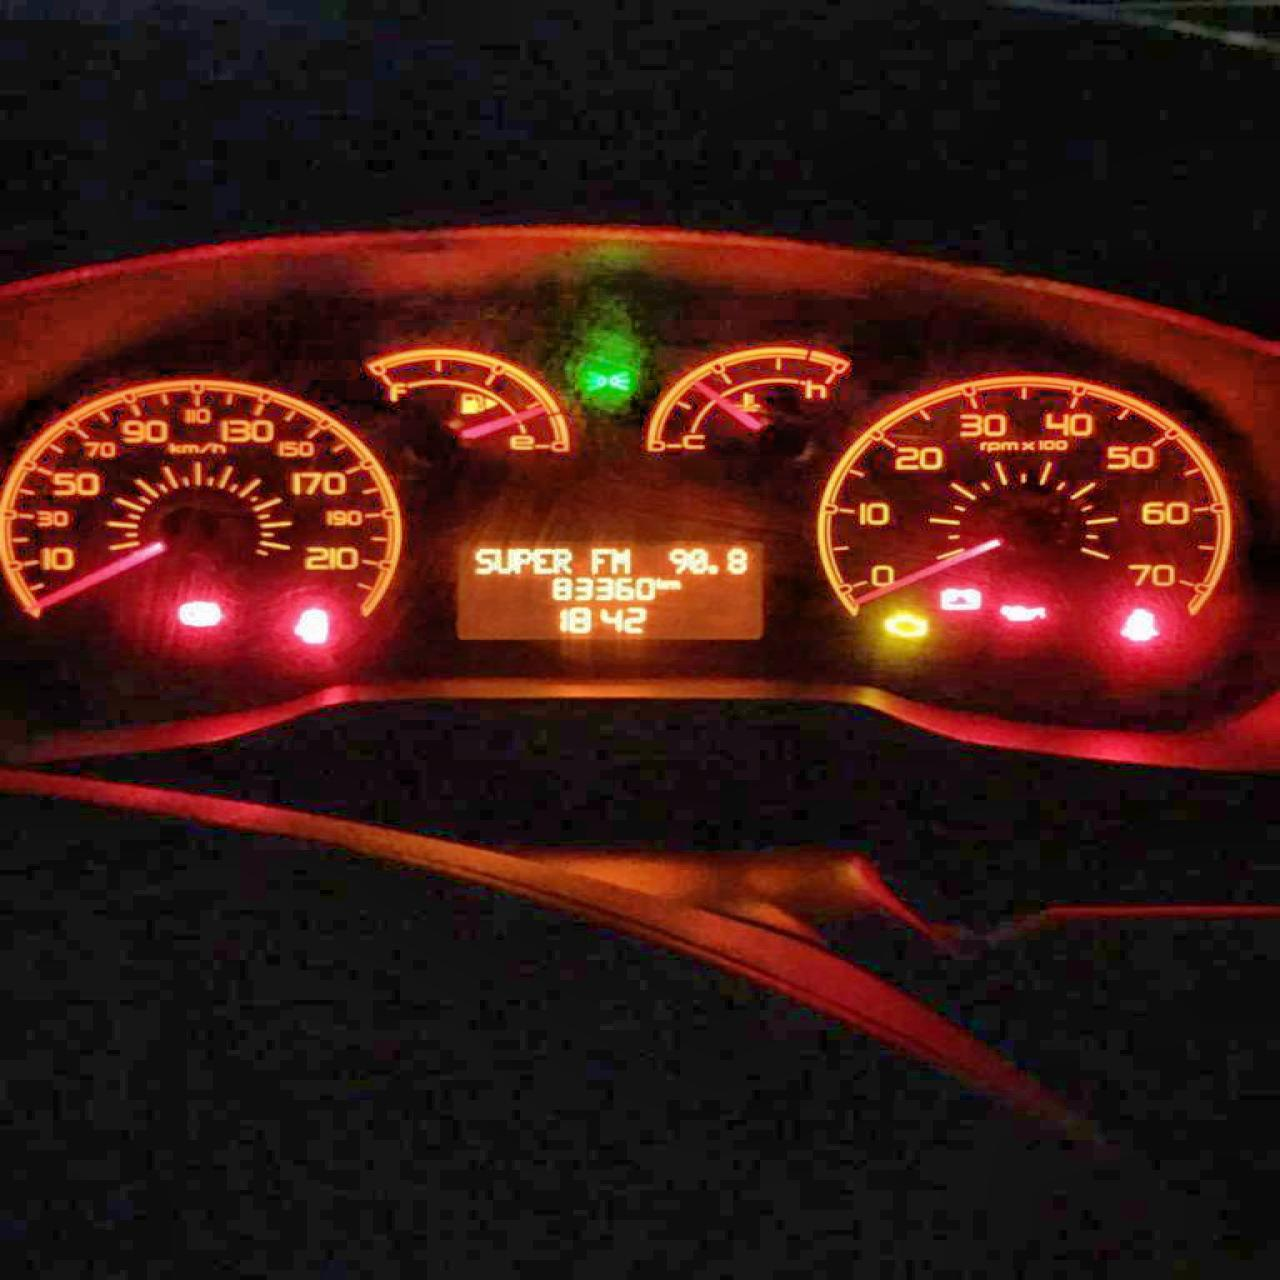-: (707, 564, 719, 576)
0: (633, 576, 655, 600), (687, 546, 707, 573)
1: (558, 606, 567, 633)
2: (624, 606, 647, 633)
3: (572, 576, 592, 600), (593, 576, 613, 600)
4: (597, 605, 621, 633)
6: (614, 574, 633, 600)
8: (568, 605, 592, 634), (550, 576, 572, 600), (726, 546, 747, 572)
9: (665, 546, 688, 573)
X: (551, 546, 572, 573), (610, 546, 629, 572), (474, 547, 493, 573), (533, 546, 552, 573), (590, 547, 610, 572), (493, 547, 513, 572), (516, 546, 532, 572), (666, 578, 682, 591), (655, 576, 663, 588)
odometer: (443, 535, 770, 644)
